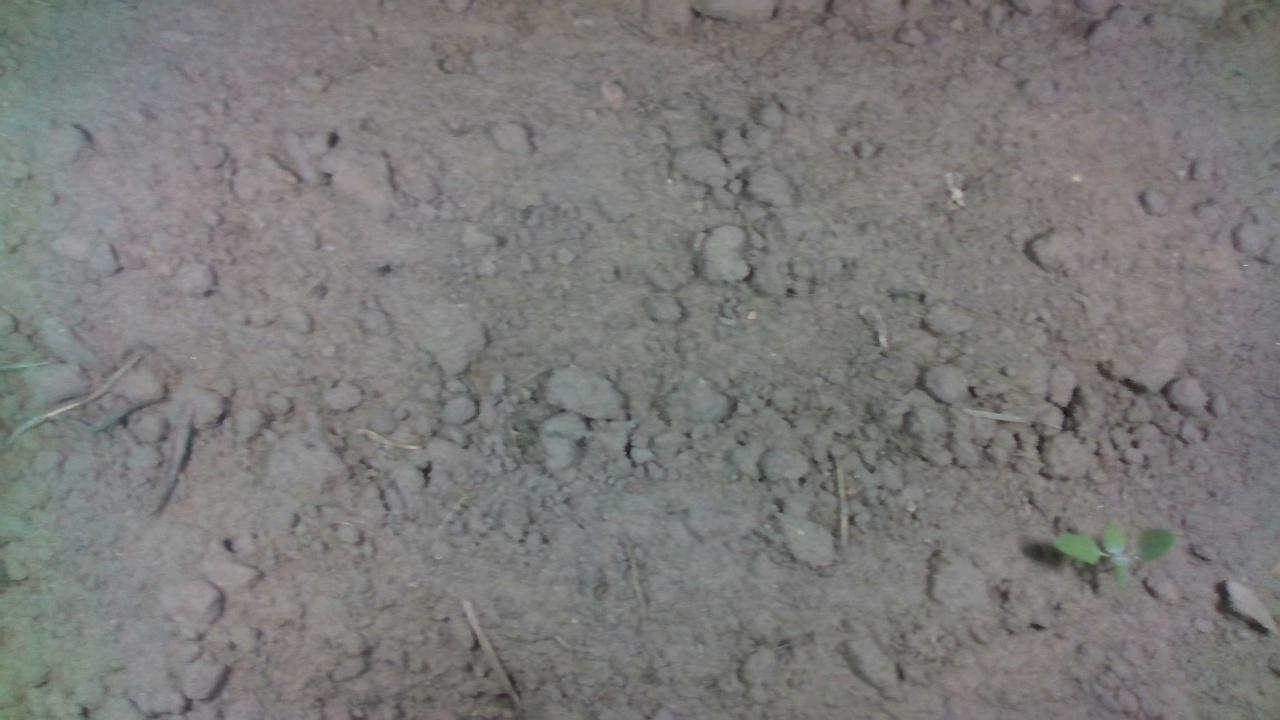weed: (1048, 513, 1180, 589)
